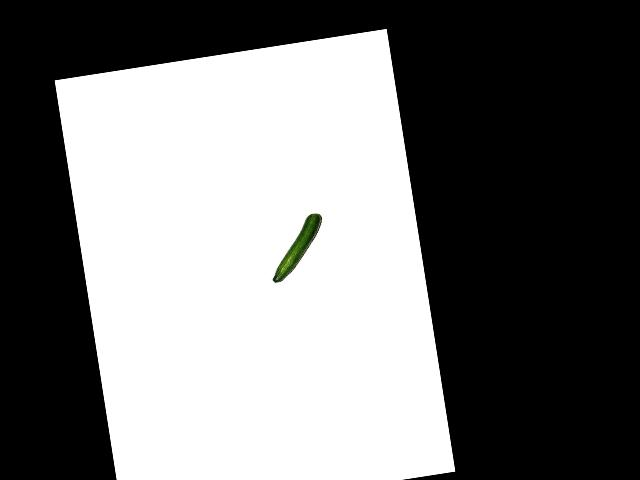cucumber: (263, 212, 330, 282)
